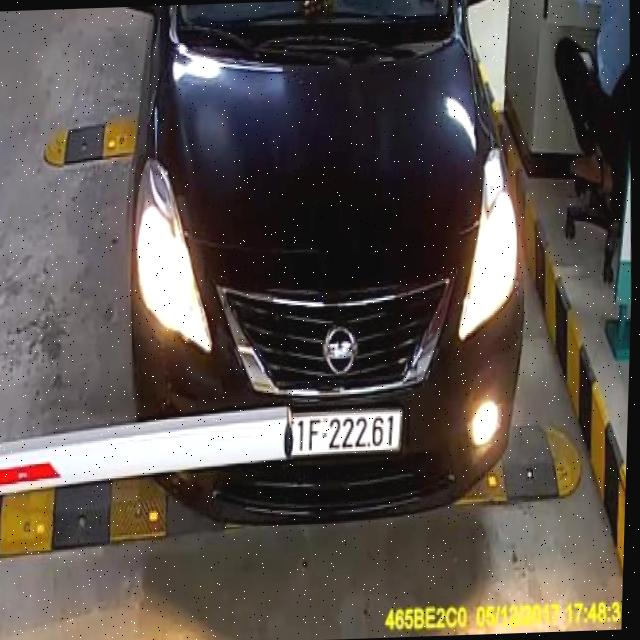car: (107, 0, 538, 530)
plate: (275, 404, 410, 464)
